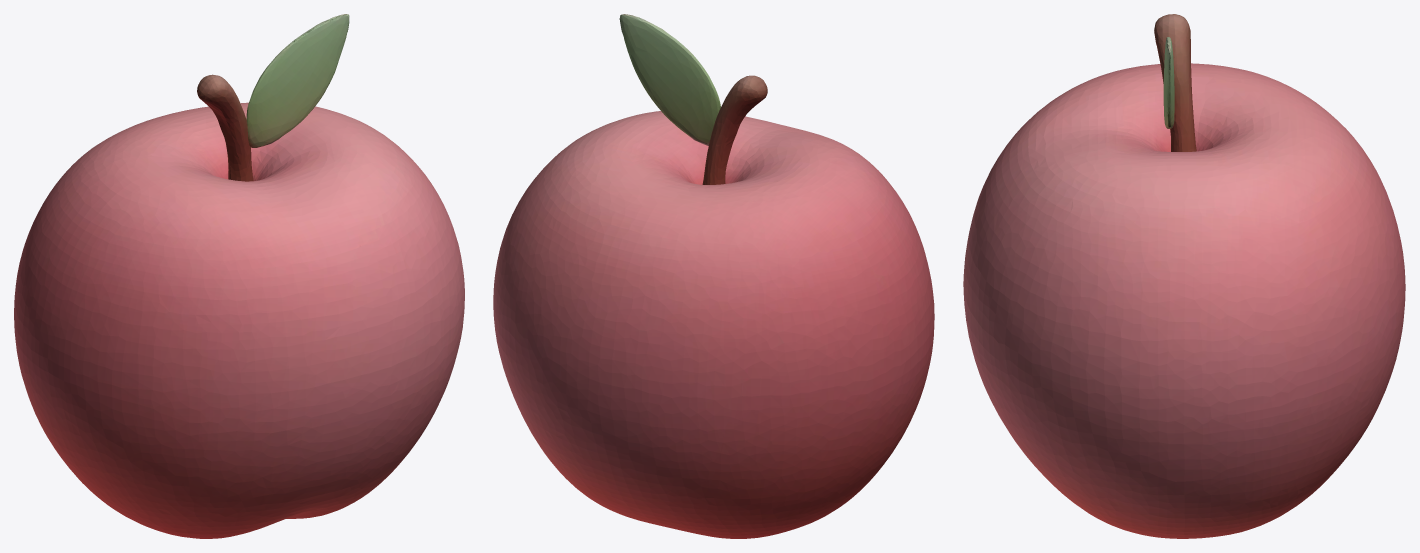
Rendered from apple.glb.
3 renders of one model, left to right at view 1: azimuth 30°, elevation 25°; view 2: azimuth 150°, elevation 25°; view 3: azimuth 270°, elevation 25°, orthographic. The views are drawn at different scales.
Parts seen in each view (by area): view 1: geometry_0; view 2: geometry_0; view 3: geometry_0.
Part boxes in pixels (left/top/right/bottom): geometry_0: left=14, top=14, right=464, bottom=538; geometry_0: left=493, top=14, right=934, bottom=538; geometry_0: left=963, top=14, right=1405, bottom=538.
Size of the model in its own units: 0.8824 by 0.9997 by 0.7986.
1 material, 1 textured.
